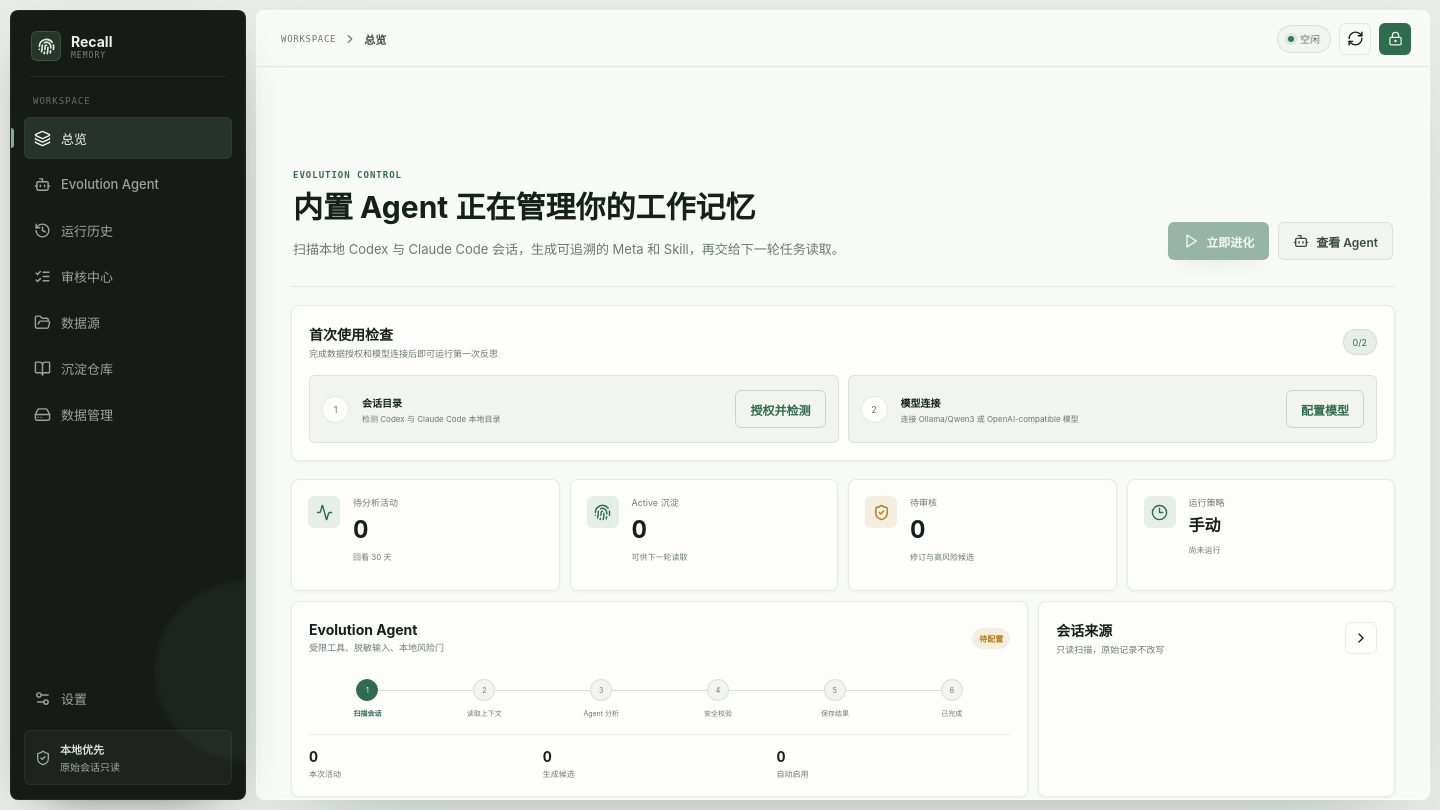
Recall Memory Tauri workflows › shows candidate-level verification and redacted evidence
The image size is (1440, 810).
Click the button "审核中心".
click(128, 276)  # box 24,255 -> 232,297
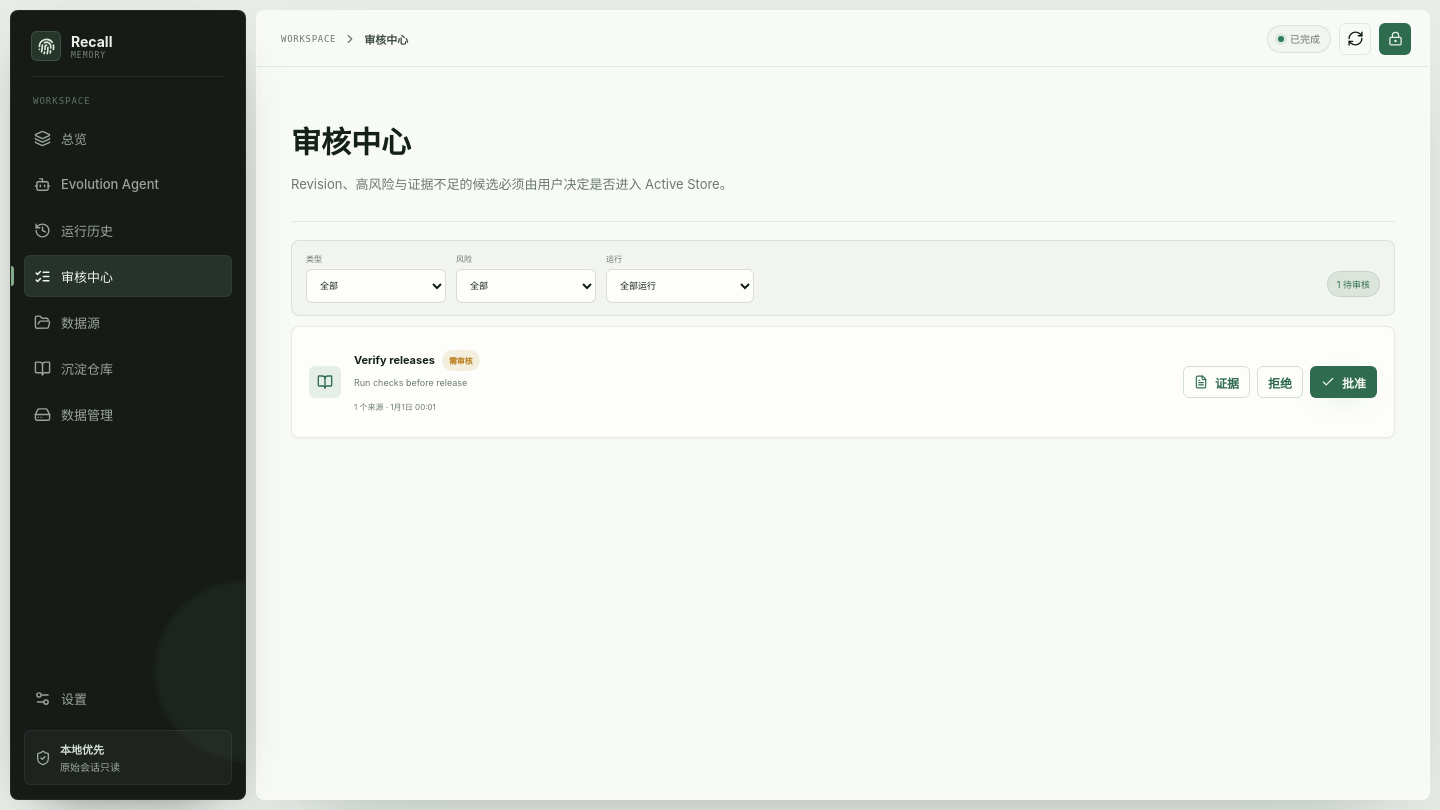
Click the button "证据".
click(1216, 382)  # box 1183,366 -> 1250,398
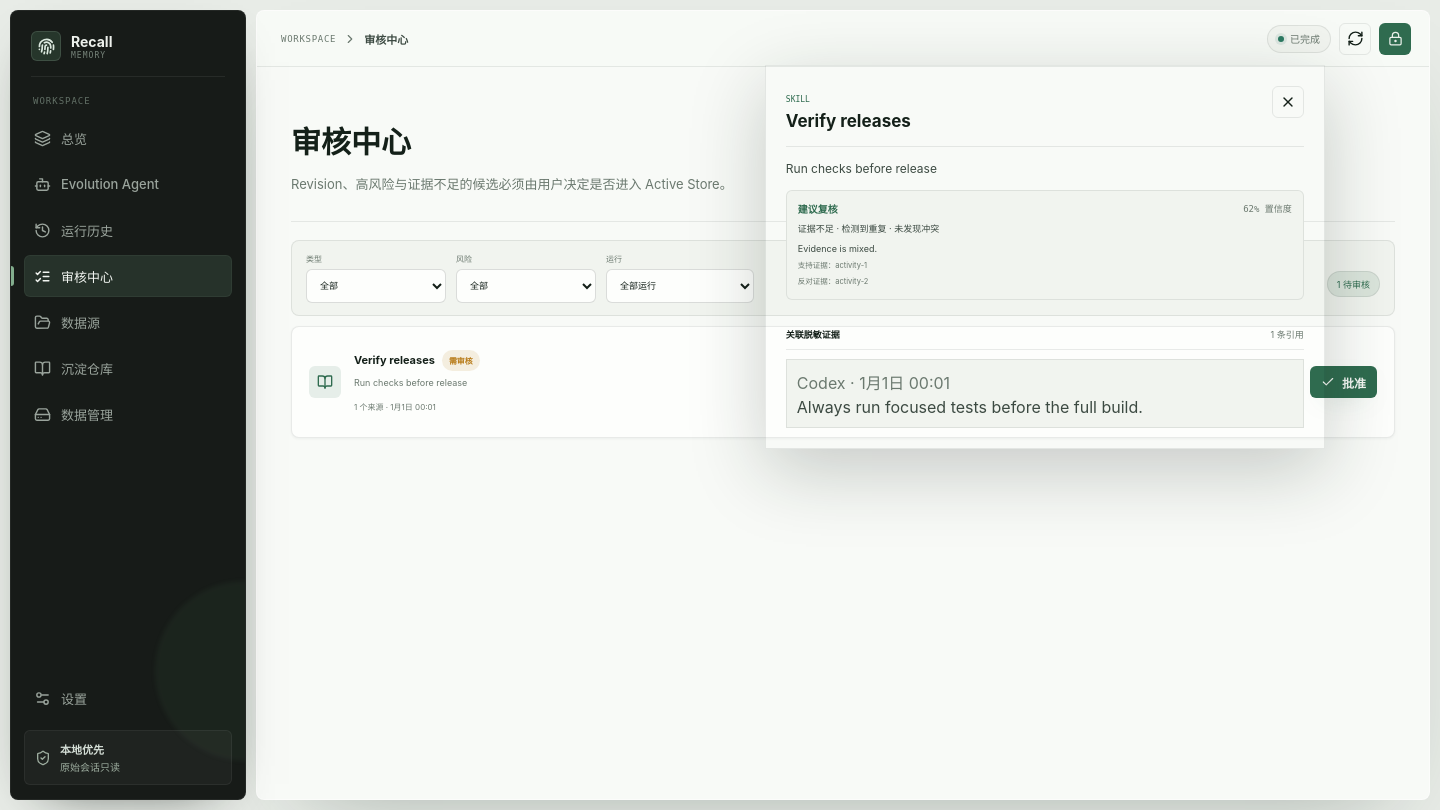
Expected: the text "建议复核" is shown, 798,202 -> 838,216
Expected: the text "证据不足 · 检测到重复 · 未发现冲突" is shown, 798,224 -> 939,234
Expected: the text "反对证据：activity-2" is shown, 798,278 -> 868,286
